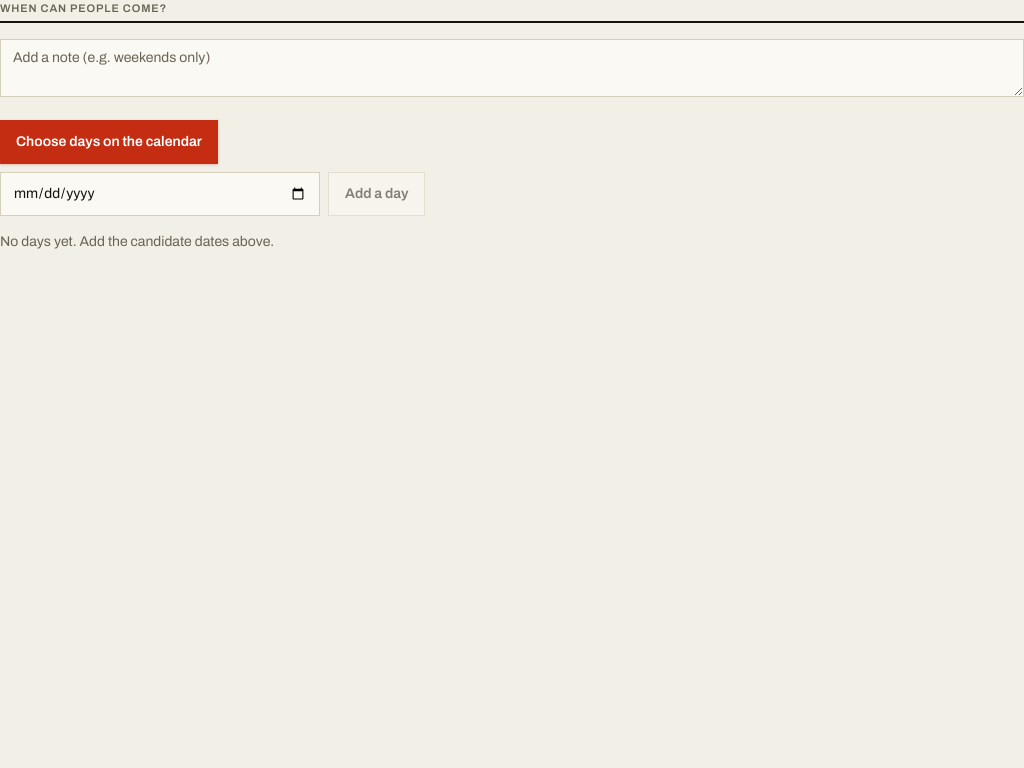
it: AvailabilityTab › offers the day picker on an event with no options yet
The image size is (1024, 768).
Click the button "Choose days on the calendar". click: (109,142)
box: [0,120,218,164]
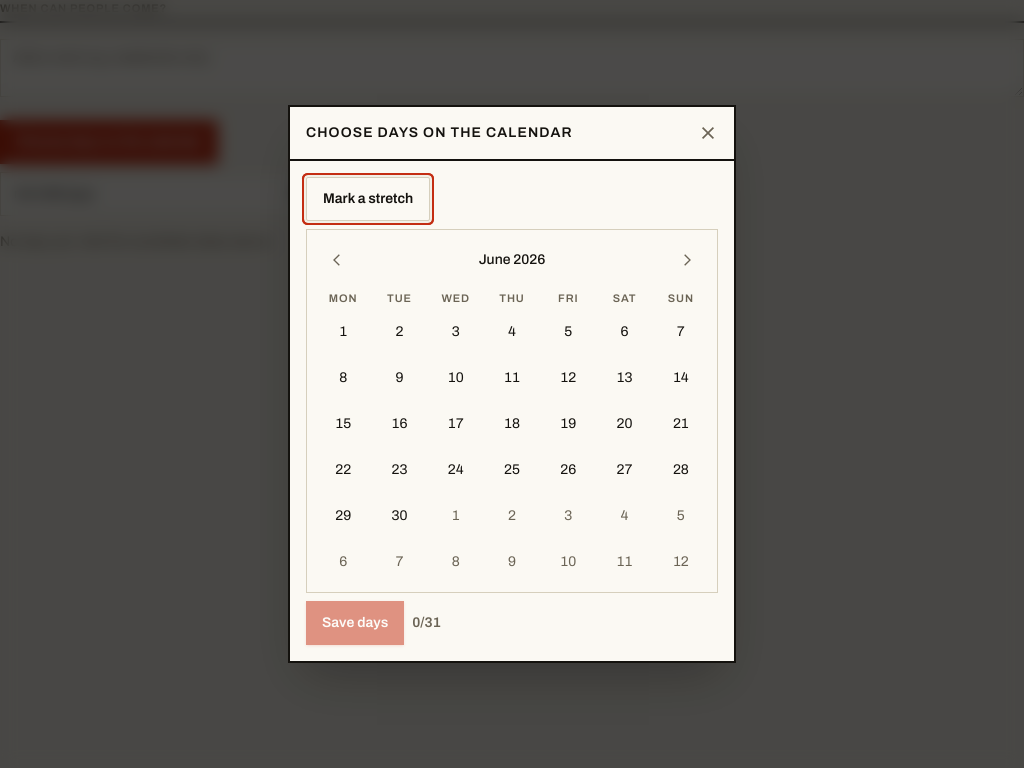
expect the dialog is shown: met, box [288,105,736,663]
expect the button "Mark a stretch" is shown: met, box [306,177,430,221]
